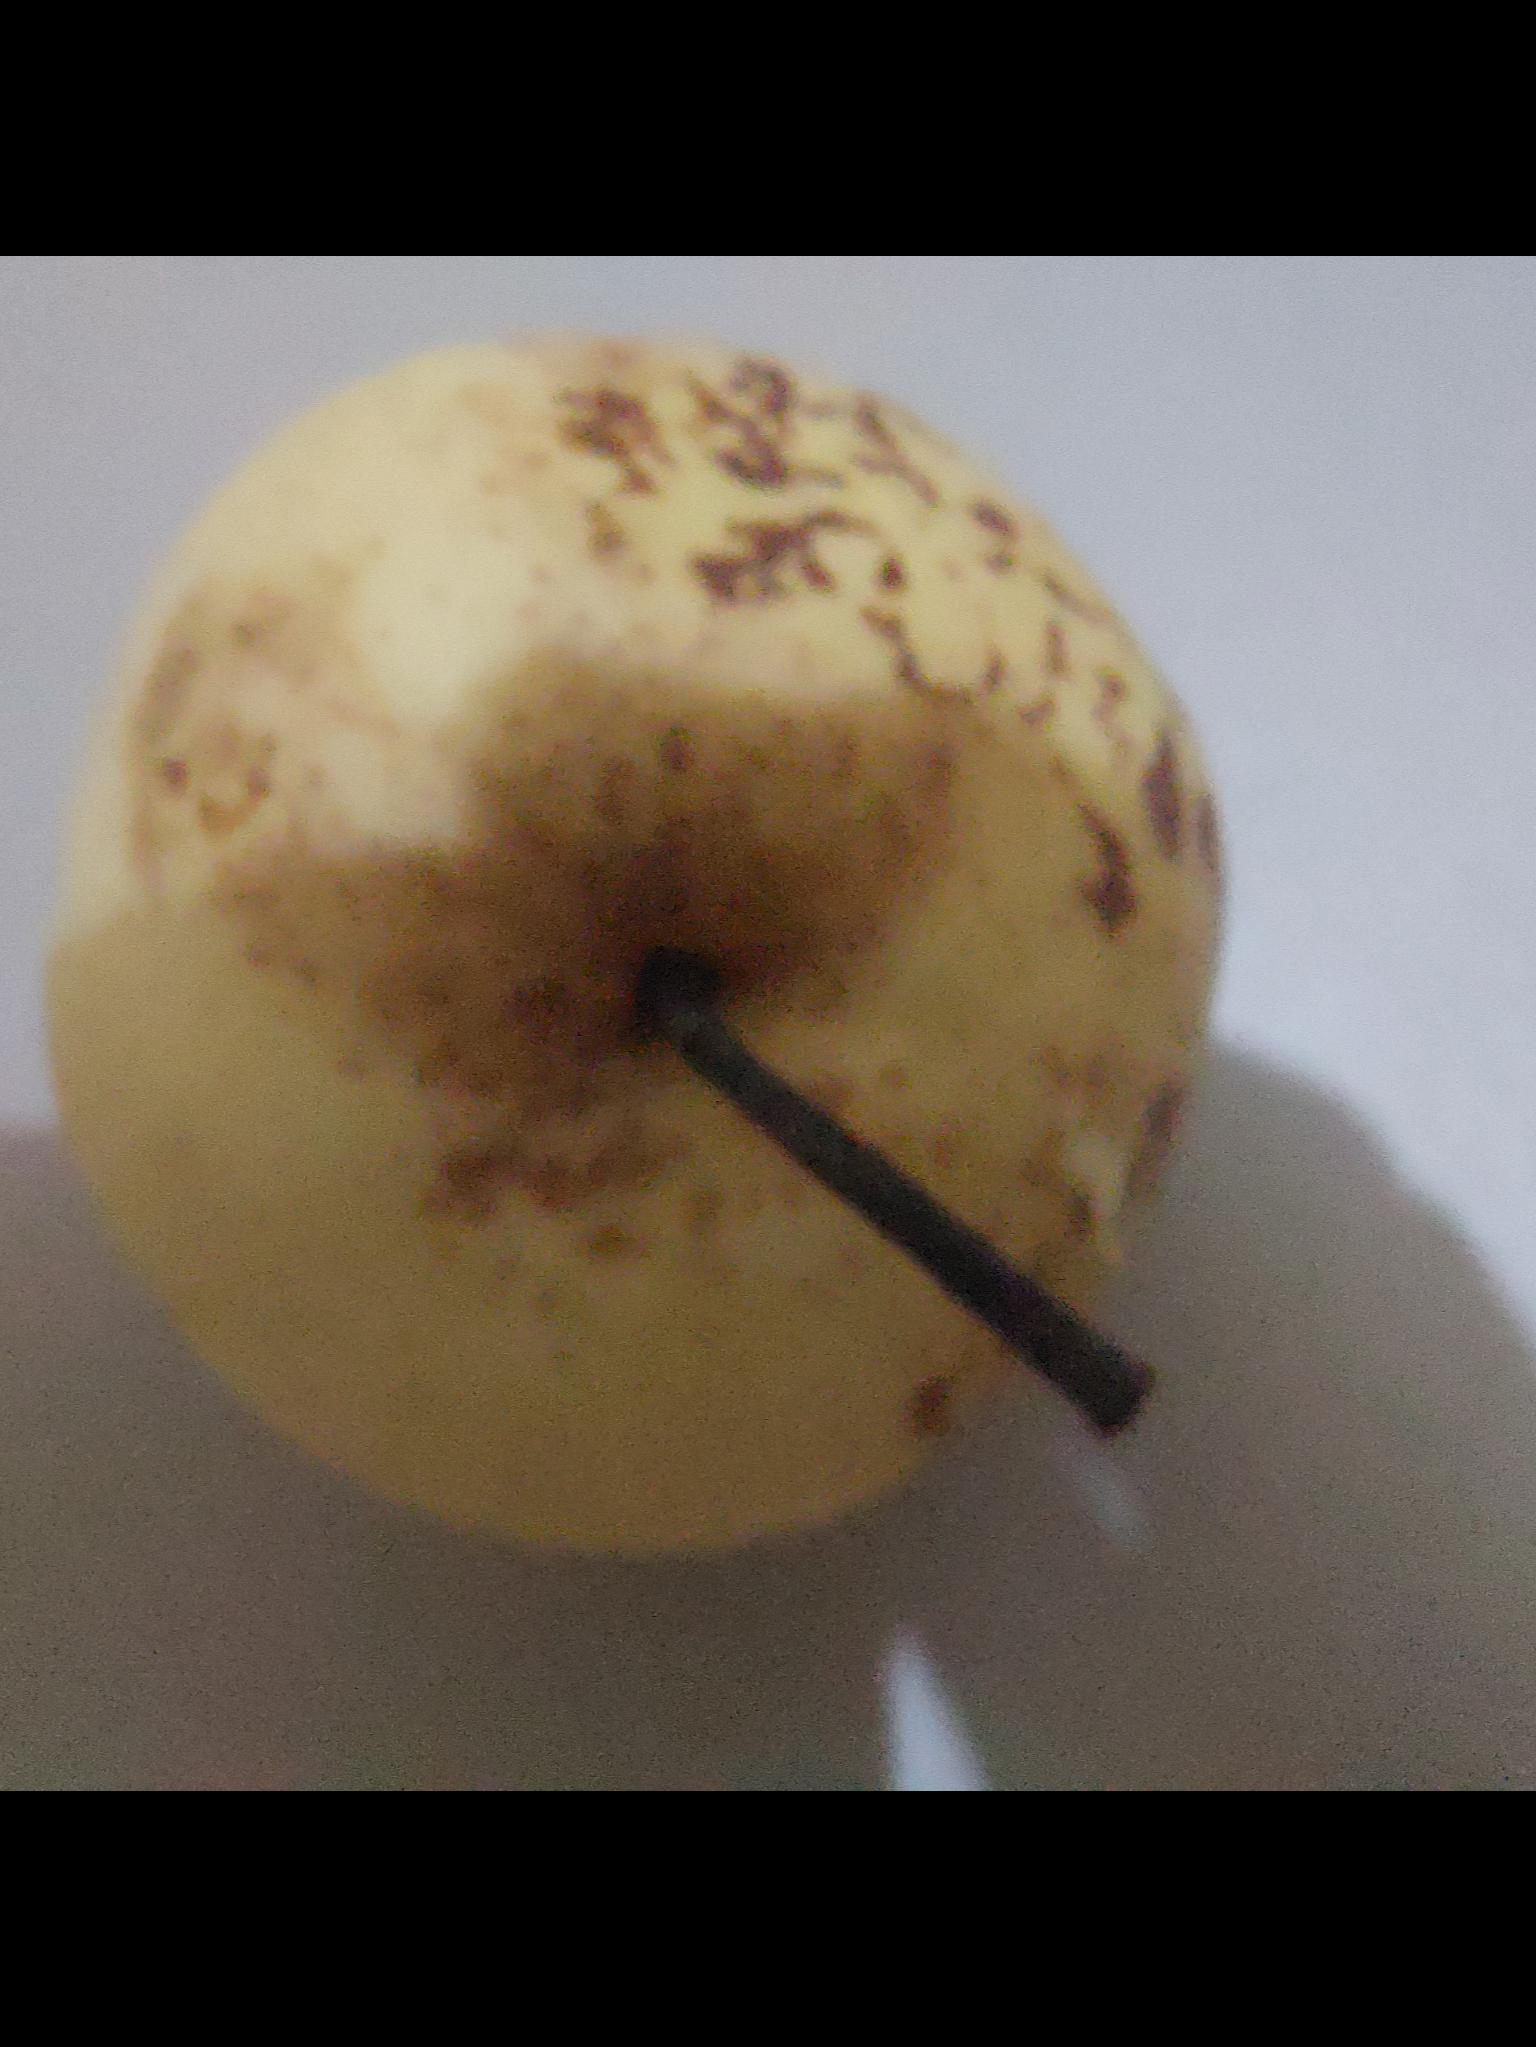Bad Pear: (11, 327, 1318, 1634)
